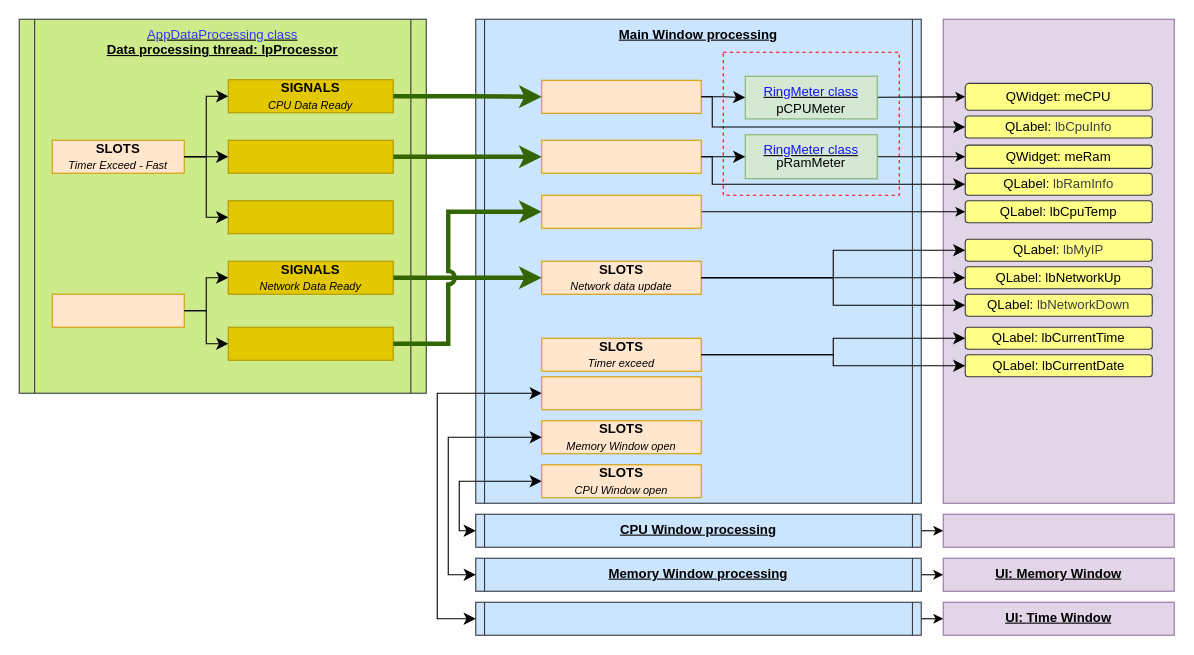
Image size: 1194x655. Some labels were removed from this diagram. The shapes that lost their labels are listed below. From the top down, each one's box as (x1, y1, x2, y2) in pixels, then its label:
(541, 79, 701, 113): SLOTS CPU usage information update
(722, 51, 899, 195): Custom Widget objects
(227, 139, 393, 173): SIGNALS RAM Data Ready
(541, 139, 701, 173): SLOTS RAM usage information update
(227, 200, 393, 234): SIGNALS Sub-CPU Data Ready
(541, 194, 701, 228): SLOTS CPU temperature update
(942, 18, 1174, 503): UI: Main Window
(51, 293, 184, 327): SLOTS Timer Exceed - Low
(227, 326, 393, 360): SIGNALS CPU Temperature Data Ready
(541, 376, 701, 410): SLOTS Time Window open
(942, 513, 1174, 547): UI: CPU Window
(475, 601, 921, 635): Time Window processing
